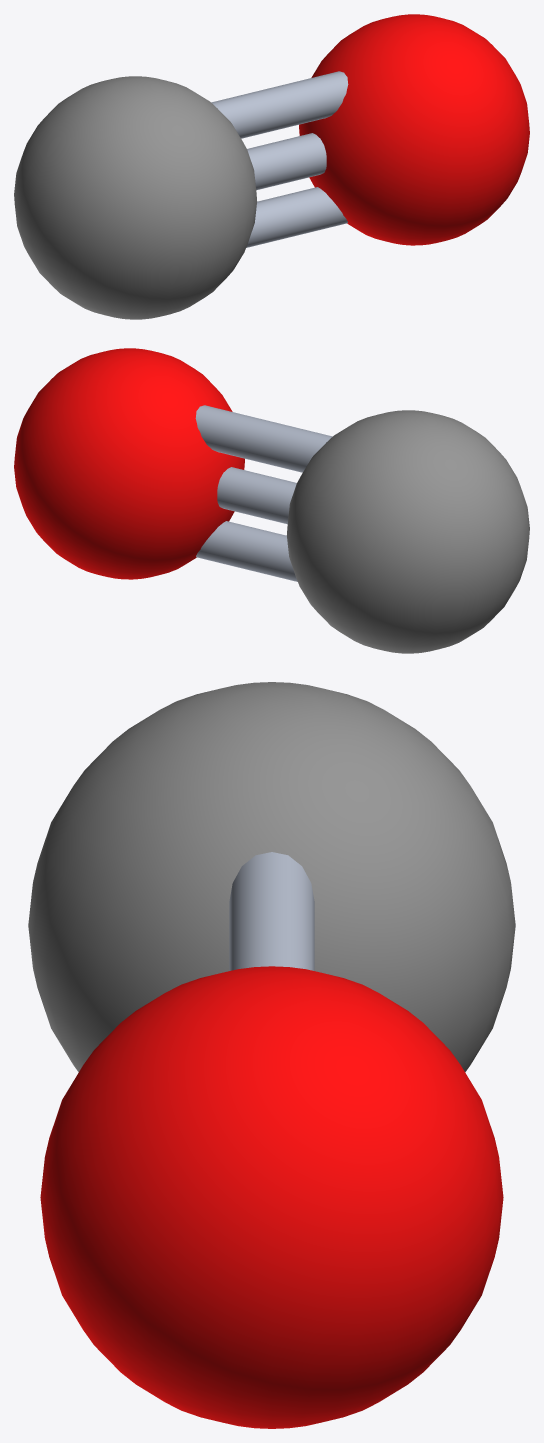
3 renders of one model, top to bottom at view 1: azimuth 30°, elevation 25°; view 2: azimuth 150°, elevation 25°; view 3: azimuth 270°, elevation 25°, orthographic. The views are drawn at different scales.
Parts seen in each view (by area): view 1: C, O, bond (×3); view 2: C, O, bond (×3); view 3: O, C, bond.
Boxes of the visible parts, left/top/right/bottom form: C: left=14, top=76, right=257, bottom=319; O: left=299, top=14, right=529, bottom=245; bond (×3): left=211, top=71, right=348, bottom=247; C: left=286, top=410, right=529, bottom=653; O: left=14, top=348, right=244, bottom=579; bond (×3): left=195, top=405, right=332, bottom=581; O: left=40, top=966, right=503, bottom=1428; C: left=28, top=682, right=515, bottom=1072; bond: left=229, top=852, right=314, bottom=970.
Size of the model in its own units: 0.22 by 0.0958 by 0.0958.
